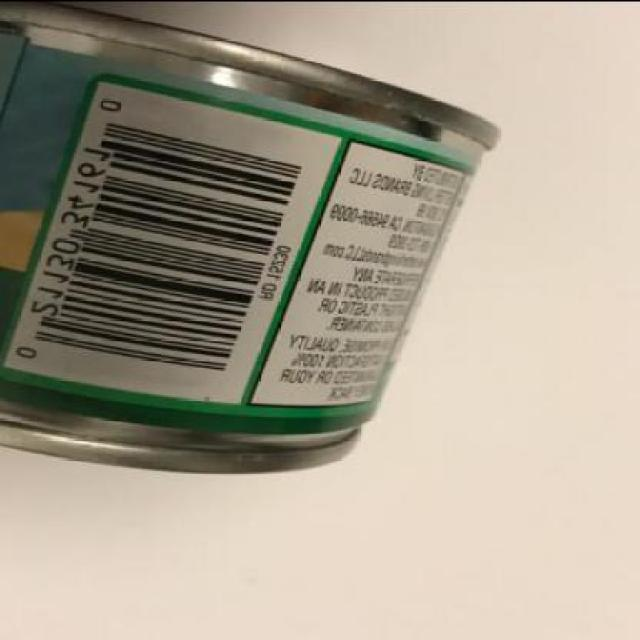METAL: (1, 2, 502, 476)
